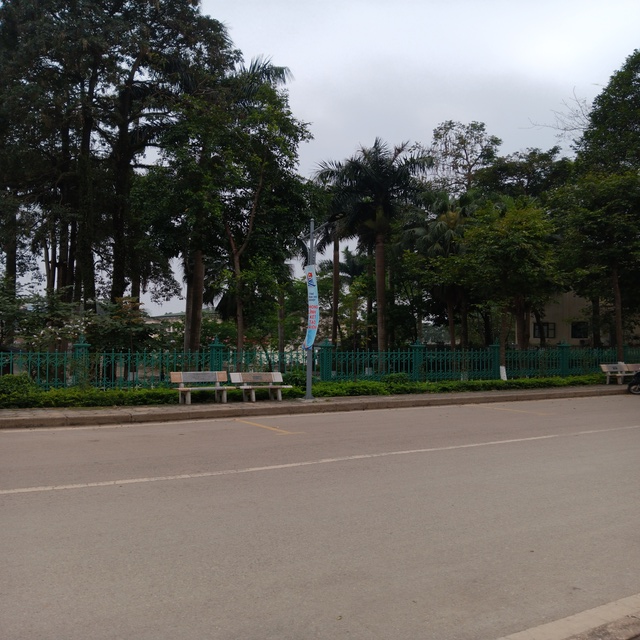gheda: (216, 362, 303, 406), (154, 367, 236, 410), (597, 355, 635, 387)
